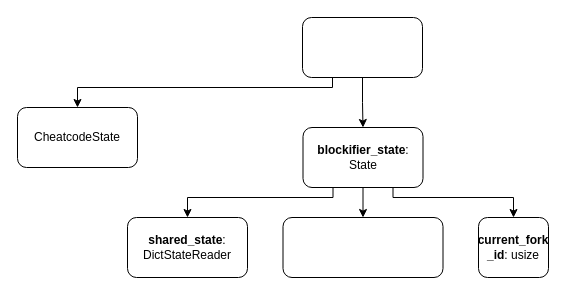
Image size: 566x295. Some labels were removed from this diagram. Here are the shapes that lost their labels. From the top down, the centre of each, then its label:
At point (362, 47): "CheatnetState".
At point (362, 247): "forks_states : Vec<ExtendedStateReader>".
